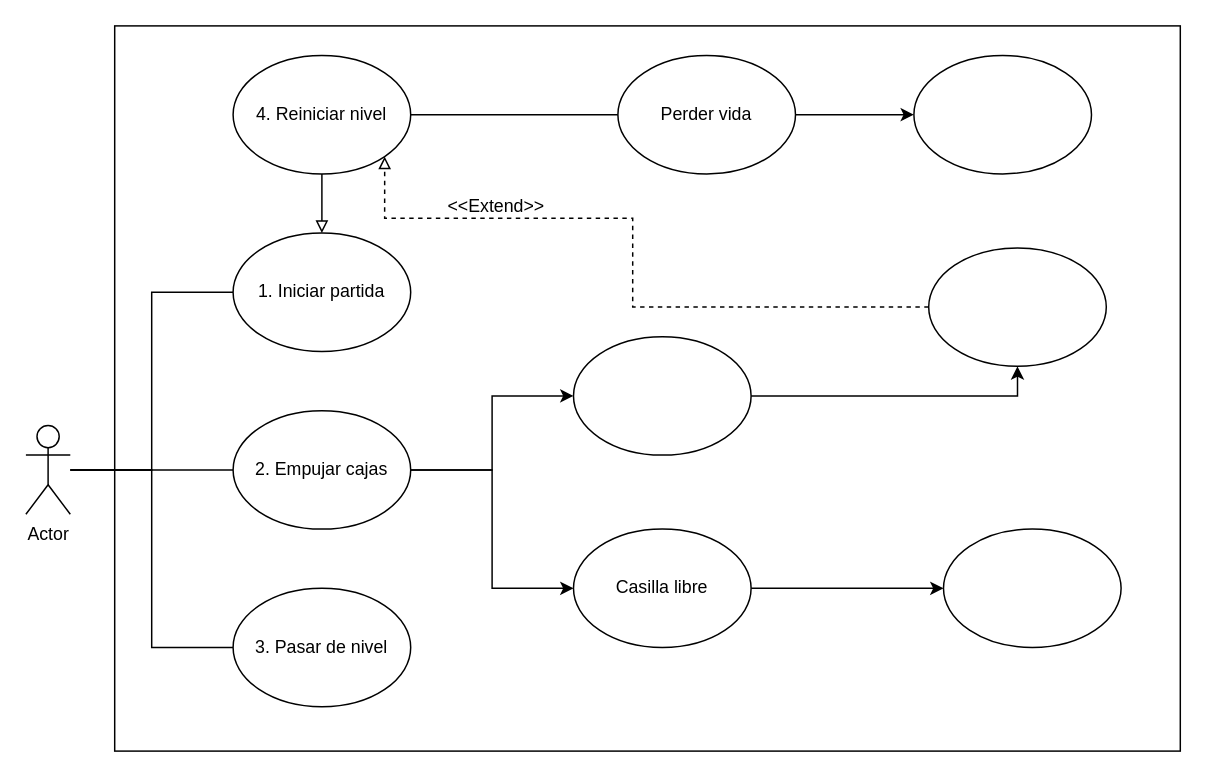
The diagram is 1206 pixels wide and 777 high, and some of its shapes have lost their labels. The box of each missing label's shape, as (x1, y1, x2, y2) in pixels:
Casilla bloqueada: (927, 246, 1106, 366)
Fin de partida: (912, 54, 1092, 174)
Muros: (572, 335, 751, 455)
Repisas: (942, 528, 1121, 648)
